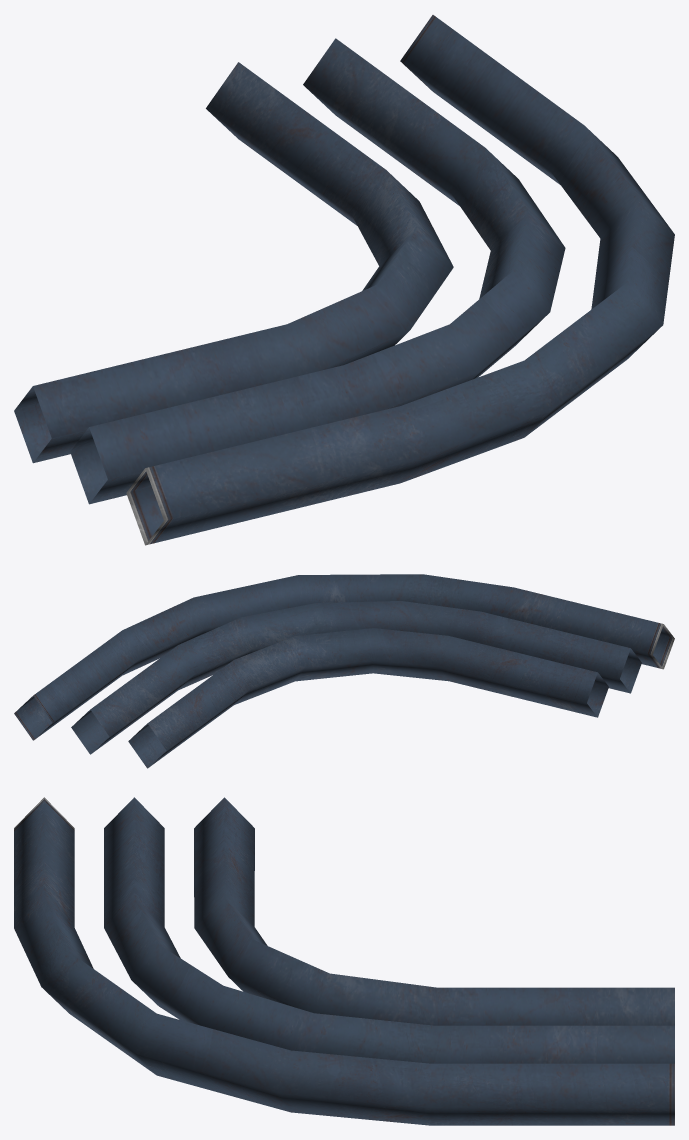
The model's file is Pipe3_Courner2_L2.fbx.
3 renders of one model, top to bottom at view 1: azimuth 30°, elevation 25°; view 2: azimuth 150°, elevation 25°; view 3: azimuth 270°, elevation 25°, orthographic. The views are drawn at different scales.
Visible parts, largest first — view 1: PIpe3_Courner2_L2; view 2: PIpe3_Courner2_L2; view 3: PIpe3_Courner2_L2.
Part boxes in pixels (bbox=[...]): PIpe3_Courner2_L2: bbox=[14, 15, 674, 545]; PIpe3_Courner2_L2: bbox=[14, 574, 674, 768]; PIpe3_Courner2_L2: bbox=[14, 797, 674, 1125].
Bounding box in the file's own units: 122 × 12.66 × 122.
